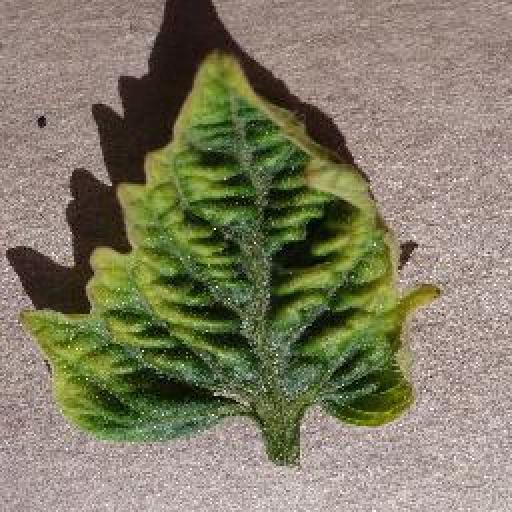Yellow Leaf Curl Virus: (19, 55, 442, 445)
